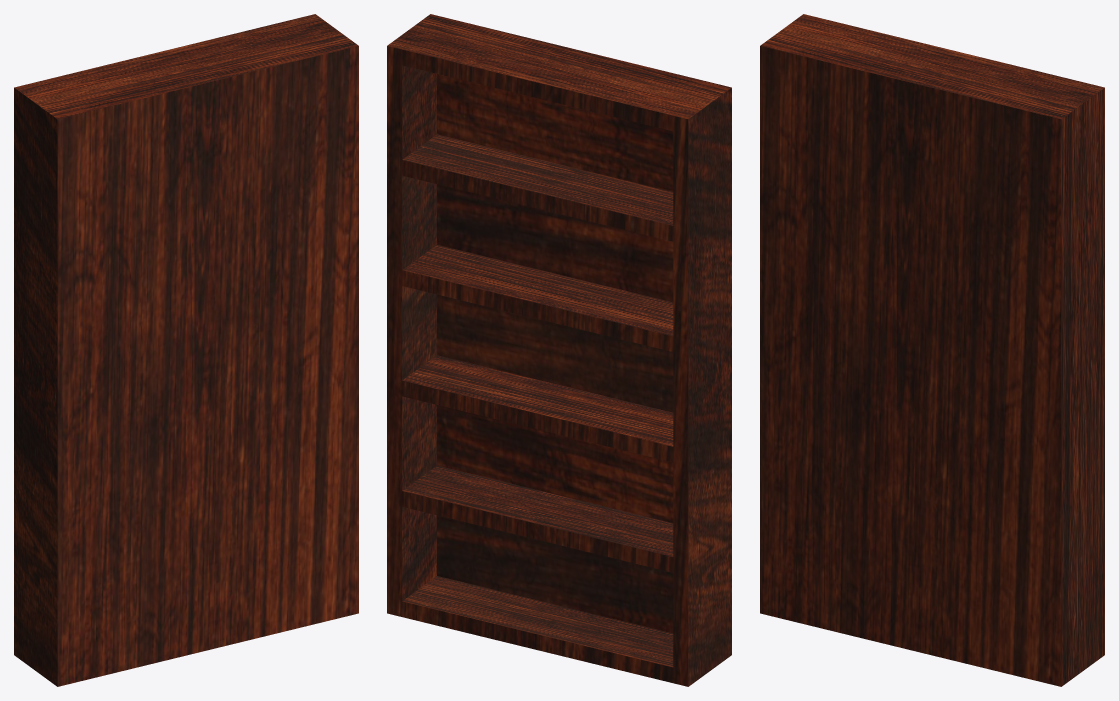
Rendered from colorBookshelf.fbx.
3 renders of one model, left to right at view 1: azimuth 30°, elevation 25°; view 2: azimuth 150°, elevation 25°; view 3: azimuth 330°, elevation 25°, orthographic.
Visible parts, largest first — view 1: Cube.005; view 2: Cube.005; view 3: Cube.005.
Boxes of the visible parts, <box> form: Cube.005: <box>14,14,358,686</box>; Cube.005: <box>387,14,731,686</box>; Cube.005: <box>760,14,1104,686</box>.
Size of the model in its own units: 100 by 180 by 25.
